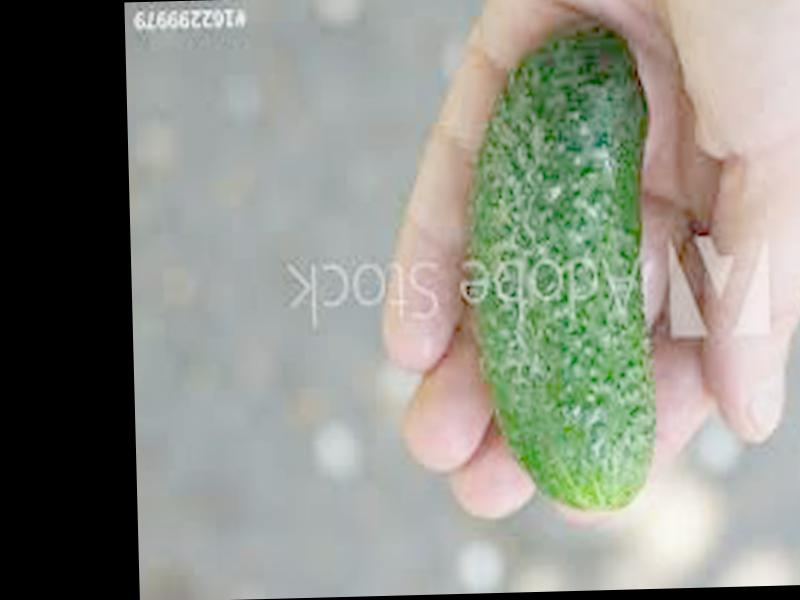Cucumber: (459, 24, 657, 511)
